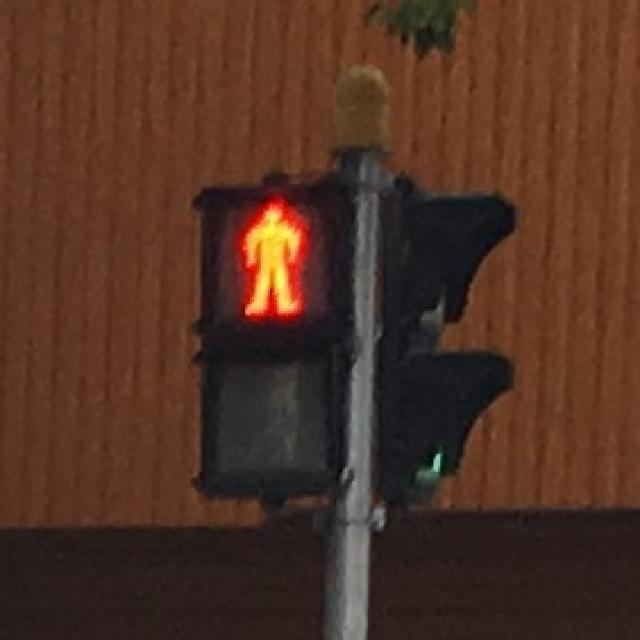red-crossing: (212, 190, 323, 326)
